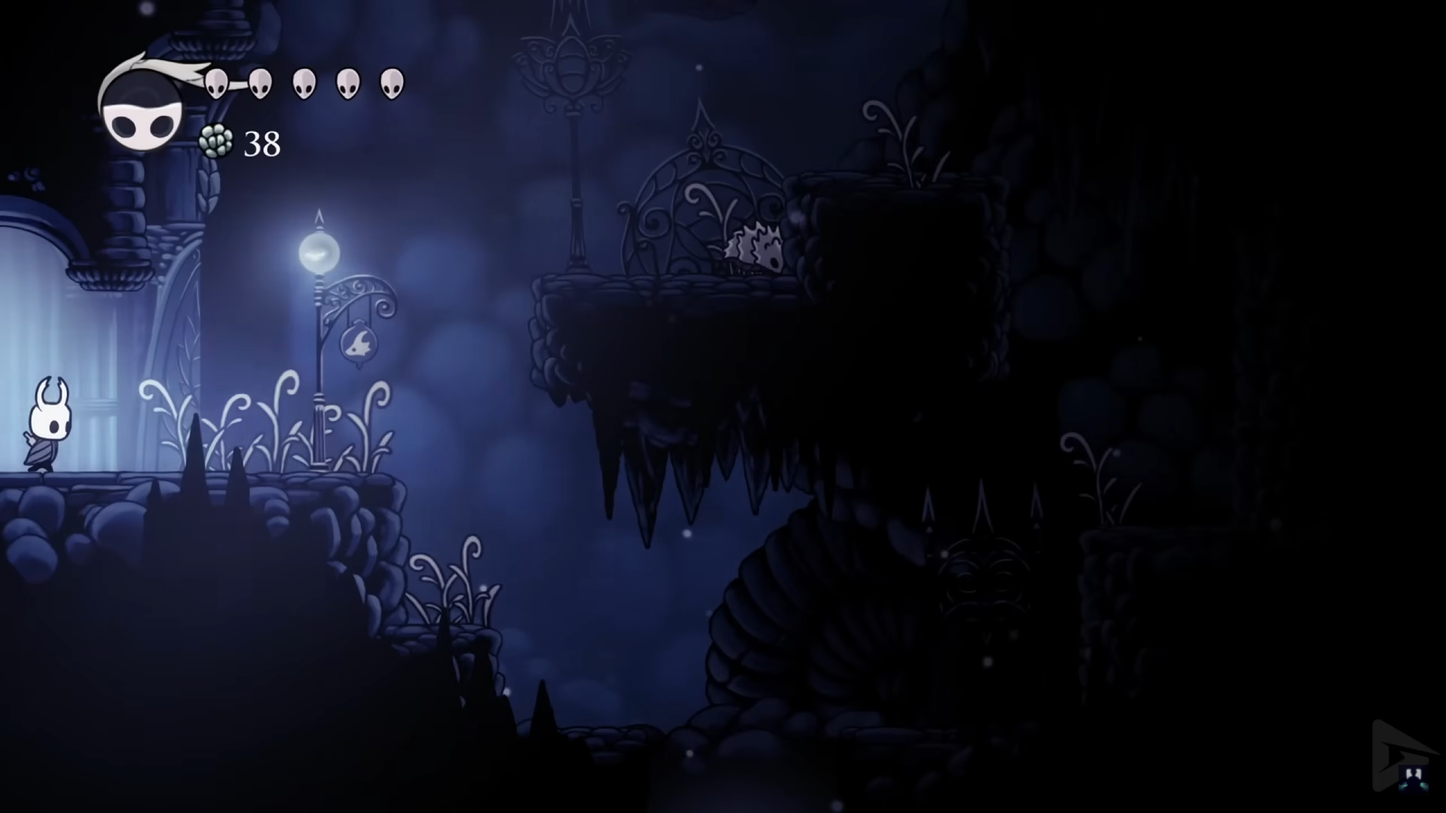HK: (20, 367, 76, 475)
